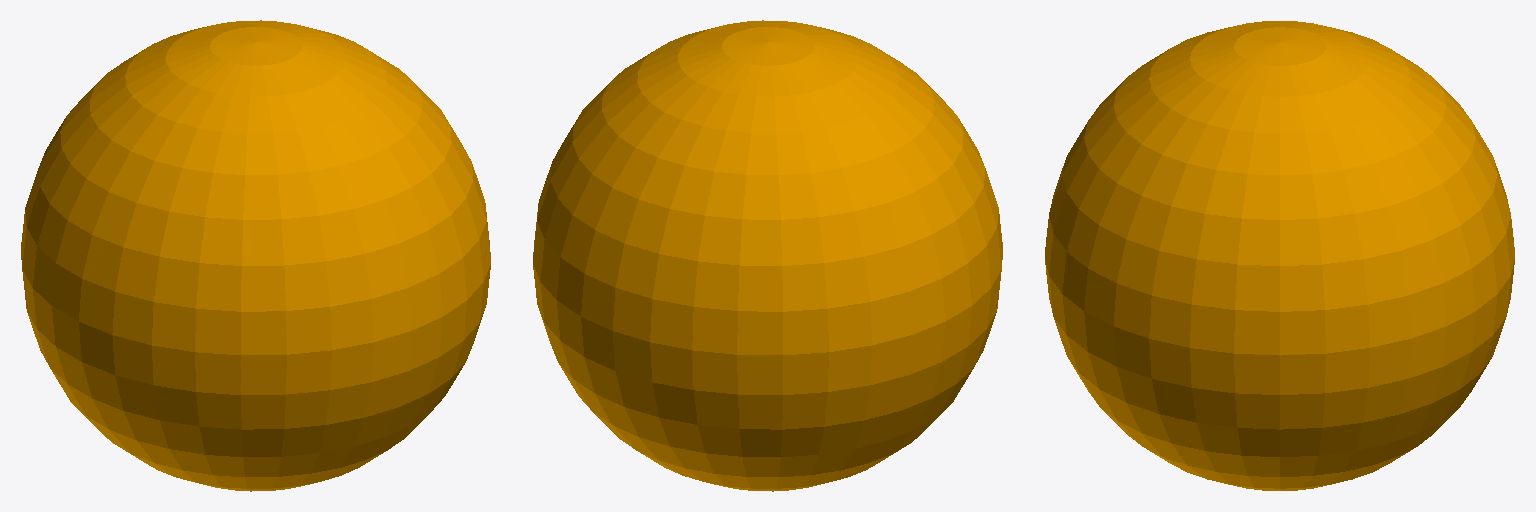
robot.urdf — sphere:
<?xml version="1.0"?>
<robot name="sphere">
  <link name="body">
    <visual>
      <geometry>
        <mesh filename="package://world_model_description/meshes/sphere.dae"/> <!-- scale="0.03 0.03 0.03" /> -->
      </geometry>
      <!-- <origin rpy="0 0 3.1415927" xyz="0 0 0" /> -->
    </visual>
    <!-- <collision> -->
    <!--   <geometry> -->
    <!--     <mesh filename="package://sherpa_spatial_relations/meshes/cone.dae"/>  scale="0.03 0.03 0.03" /> --> 
    <!--   </geometry> -->
     <!-- <origin rpy="0 0 3.1415927" xyz="0 0 0" /> -->
    <!-- </collision> -->
    <inertial>
      <mass value="0.1" />
      <inertia ixx="1.0" ixy="0.0" ixz="0.0" iyy="1.0" iyz="0.0" izz="1.0" />
    </inertial>
  </link>
    <gazebo>
     <static>true</static>
   </gazebo>
   <gazebo reference="body">
    <material>Gazebo/OrangeTransparent</material>
  </gazebo>
</robot>

--- Facts derived from the render (not from the file) ---
3 views of the same robot in one strip: view 1: azimuth 30°, elevation 25°; view 2: azimuth 150°, elevation 25°; view 3: azimuth 270°, elevation 25° (orthographic).
Model sphere with 1 links and 0 joints (none), rooted at body, posed all joints at 0.
Visible links, largest first — view 1: body; view 2: body; view 3: body.
Link boxes in pixels (box(x1,y1,x2,y2)): body: box(21, 20, 490, 491); body: box(533, 20, 1002, 491); body: box(1045, 21, 1514, 490).
Bounding box of the posed robot: 0.1336 × 0.1336 × 0.1336 m (x, y, z).
1 mesh visuals loaded from 1 distinct referenced files (1 Collada DAE).